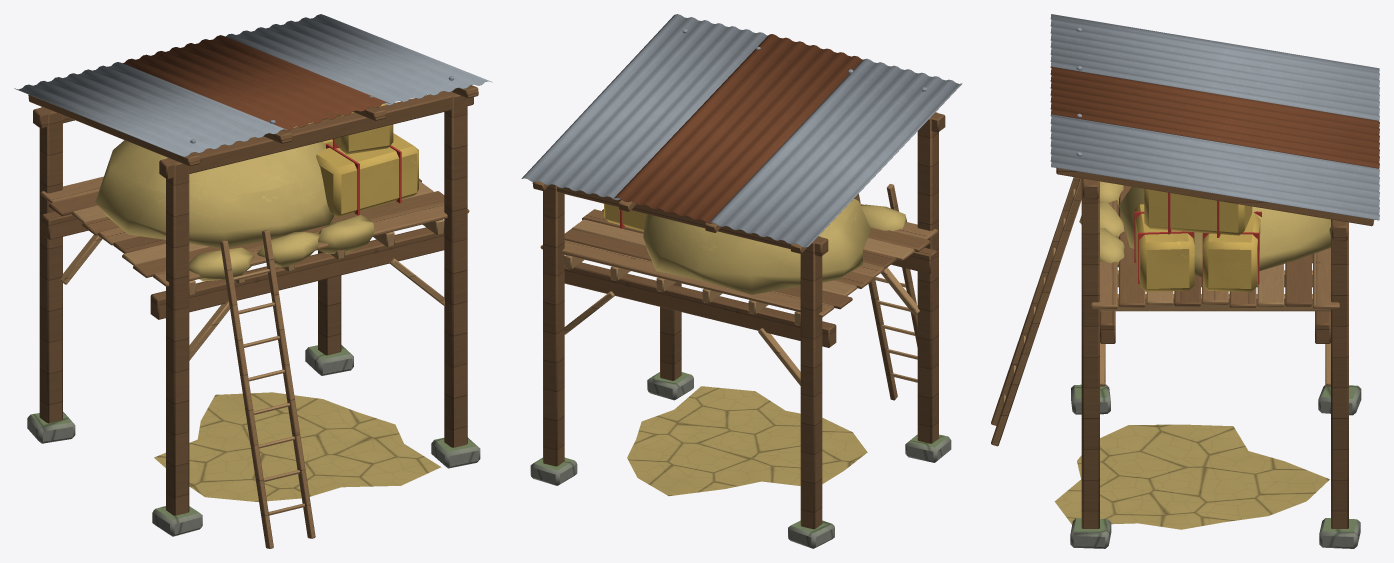
The model's file is hay_loft_frame.glb.
3 renders of one model, left to right at view 1: azimuth 30°, elevation 25°; view 2: azimuth 150°, elevation 25°; view 3: azimuth 270°, elevation 25°, orthographic. The views are drawn at different scales.
Parts seen in each view (by area): view 1: hay_loft_frame; view 2: hay_loft_frame; view 3: hay_loft_frame.
Boxes of the visible parts, bbox=[...] form: hay_loft_frame: bbox=[14, 14, 492, 548]; hay_loft_frame: bbox=[521, 14, 962, 548]; hay_loft_frame: bbox=[991, 14, 1379, 548].
Bounding box in the file's own units: 3.17 × 3.79 × 3.43.
Materials: 17 (17 with a texture image).
